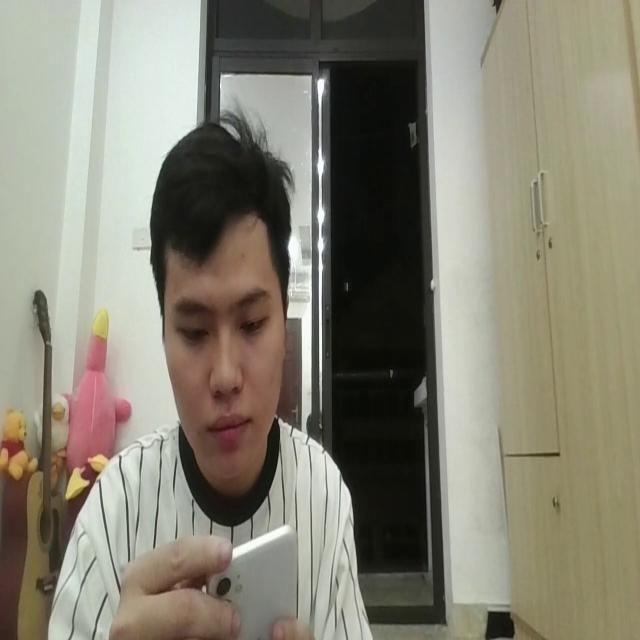phone: (205, 517, 300, 640)
student: (50, 103, 364, 640)
